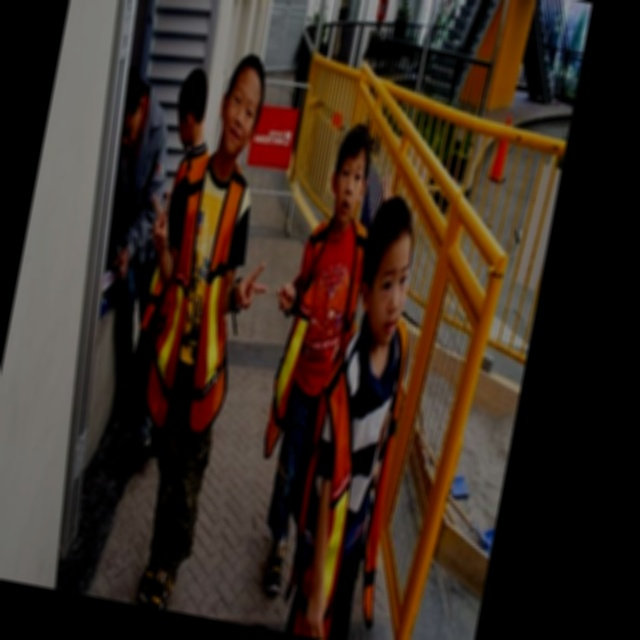Con_Casco: (327, 123, 377, 226)
Con_Chaleco: (292, 307, 419, 614), (140, 152, 257, 431)
